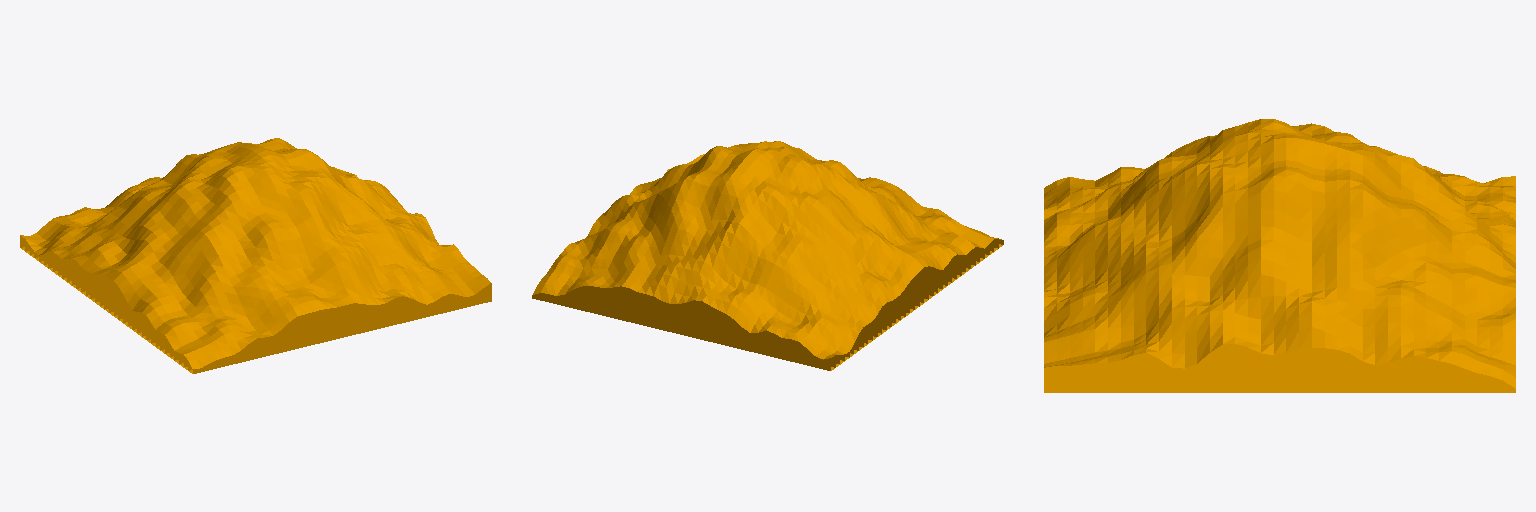
robot.urdf — mountain:
<?xml version="1.0"?>
<robot name="mountain">
  <link name="baseLink">
    <inertial>
      <origin xyz="0 0 0" rpy="0 0 0"/>
      <mass value="1"/>
      <inertia ixx="1" ixy="0" ixz="0" iyy="1" iyz="0" izz="1"/>
    </inertial>
    <visual>
      <origin xyz="0 0 0" rpy="0 0 0"/>
      <geometry>
        <mesh filename="gaussian_pyramid_larger_wider.obj" scale="1 1 1"/>
      </geometry>
    </visual>
    <collision>
      <origin xyz="0 0 0" rpy="0 0 0"/>
      <geometry>
        <mesh filename="gaussian_pyramid_larger_wider.obj" scale="1 1 1"/>
      </geometry>
    </collision>
  </link>
</robot>

--- What the picture shows (computed from the rendered views, not written in the file) ---
Views: 3 orthographic renders of the robot side by side, from view 1: azimuth 30°, elevation 25°; view 2: azimuth 150°, elevation 25°; view 3: azimuth 270°, elevation 25°.
Model mountain with 1 links and 0 joints (none), rooted at baseLink, posed all joints at 0.
Visible links, largest first — view 1: baseLink; view 2: baseLink; view 3: baseLink.
Link boxes in pixels (<box>): baseLink: <box>20,138,491,373</box>; baseLink: <box>532,141,1003,370</box>; baseLink: <box>1044,119,1515,392</box>.
Size in the robot's own frame: 18.5 by 18.5 by 7.12 metres.
Meshes: 1 distinct files referenced, 1 mesh visuals loaded (1 OBJ).